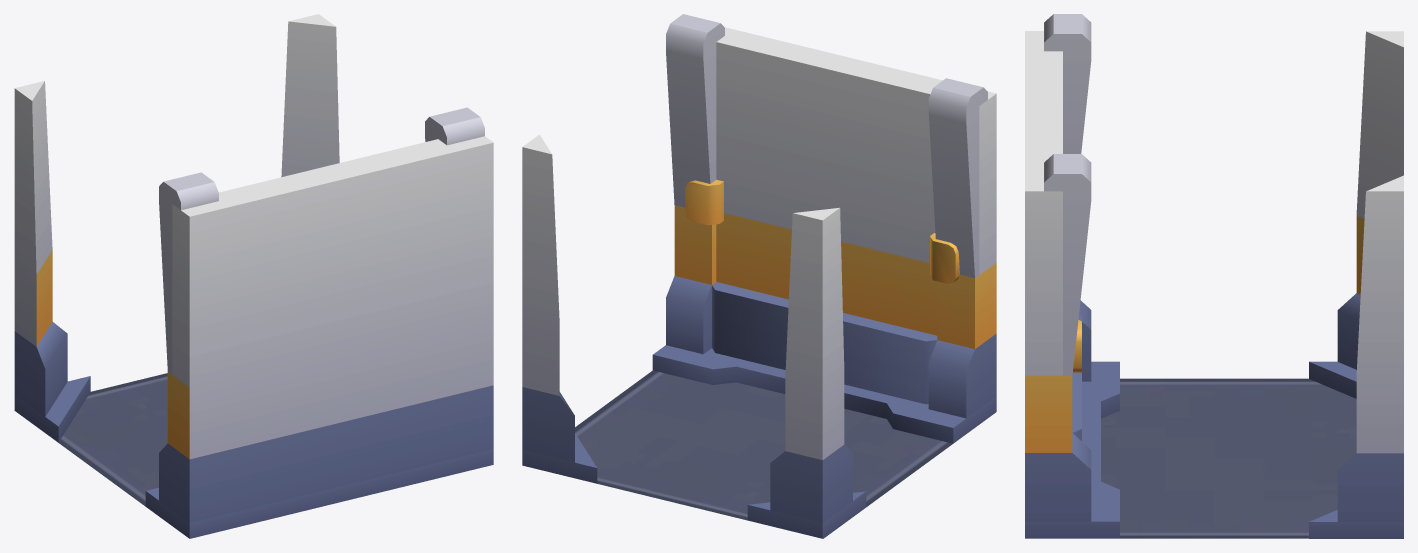
File: corridor-junction.glb
The picture shows the model from 3 angles, left to right: view 1: azimuth 30°, elevation 25°; view 2: azimuth 150°, elevation 25°; view 3: azimuth 270°, elevation 25°; orthographic projection. The views are drawn at different scales.
Visible parts, largest first — view 1: corridor-junction; view 2: corridor-junction; view 3: corridor-junction.
Part boxes in pixels (x1,y1,x2,y2): corridor-junction: [14, 14, 493, 538]; corridor-junction: [522, 14, 996, 538]; corridor-junction: [1025, 14, 1403, 538].
Size of the model in its own units: 4.01 by 4.25 by 4.
Materials: 1 (1 with a texture image).
